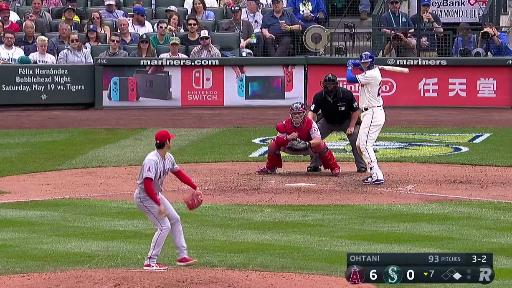pitcher: (133, 130, 206, 270)
